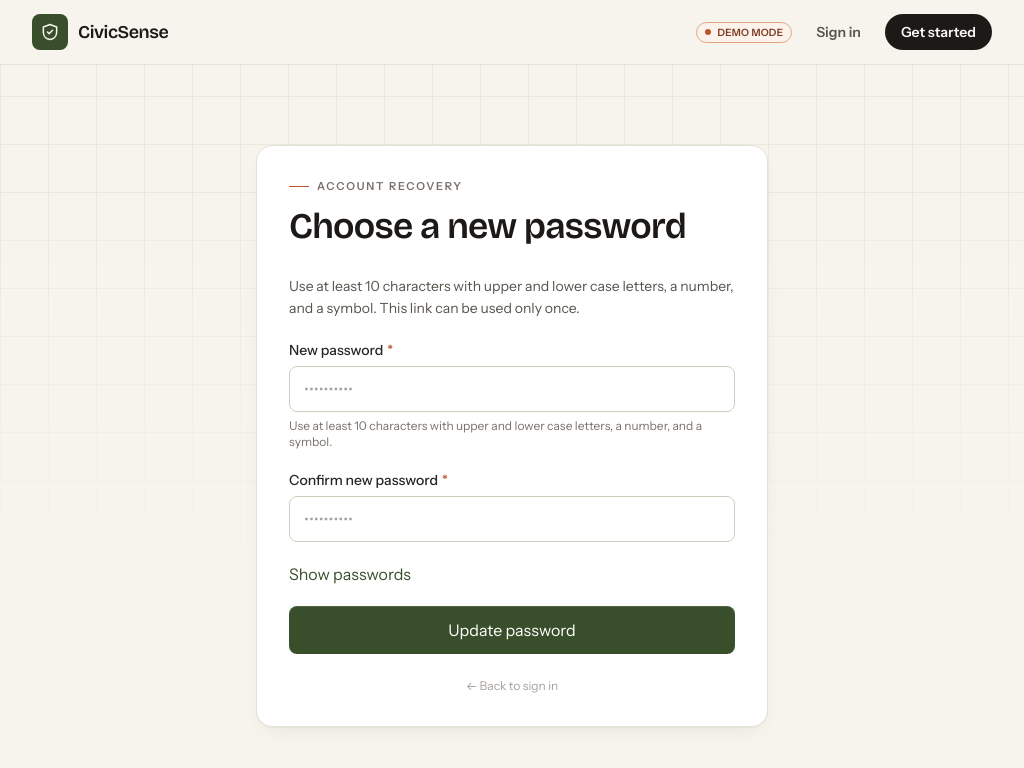
Test case: Phase 10 password recovery › rejects mismatched passwords before calling the API
Type "Str0ng!Pass1" into the password field labelled "New password" at (512, 389), box [289, 366, 735, 412]
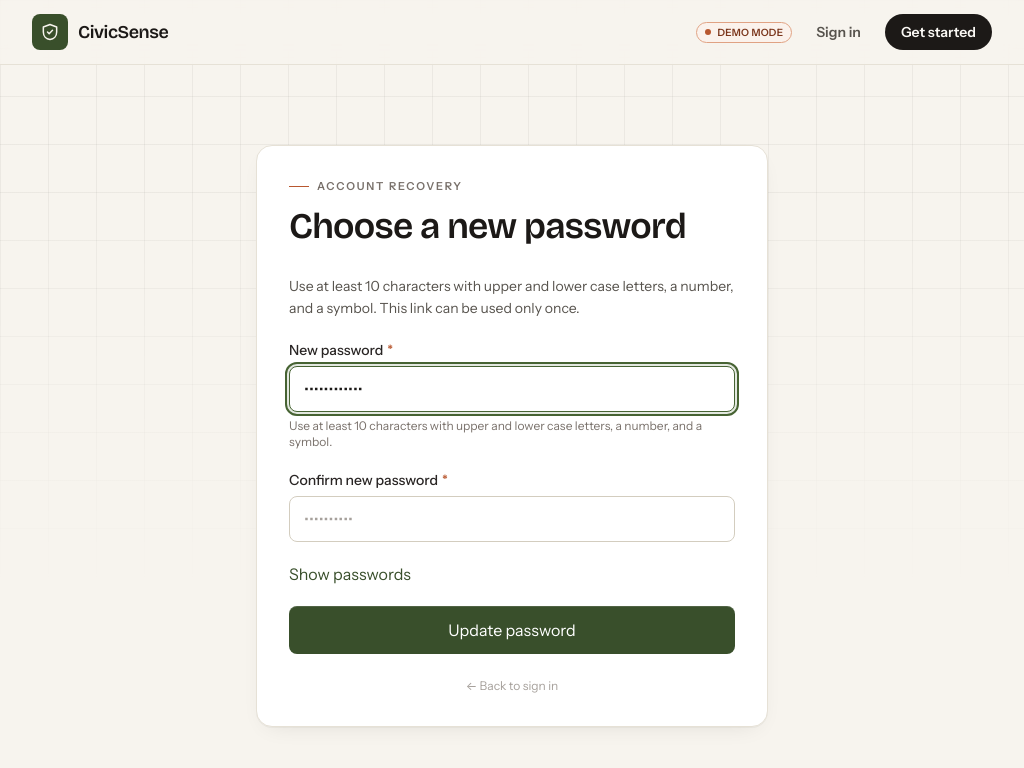
Type "Different!Pass1" into the password field labelled "Confirm new password *" at (512, 519), box [289, 496, 735, 542]
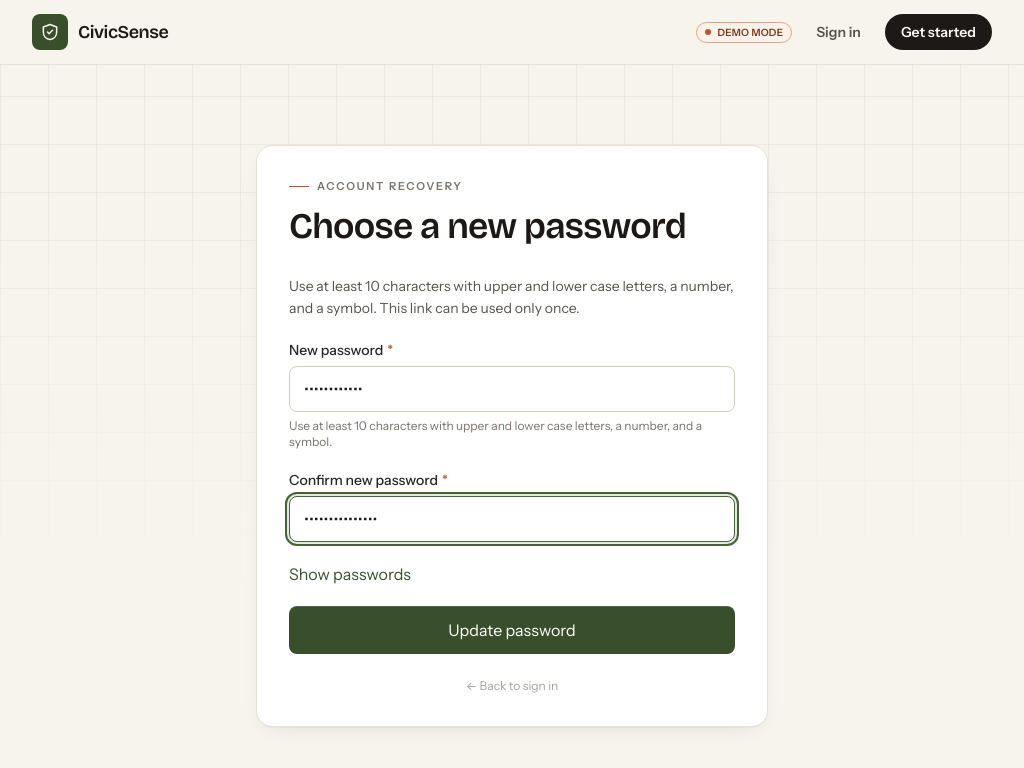
Click the button "Update password" at (512, 630), box [289, 606, 735, 654]
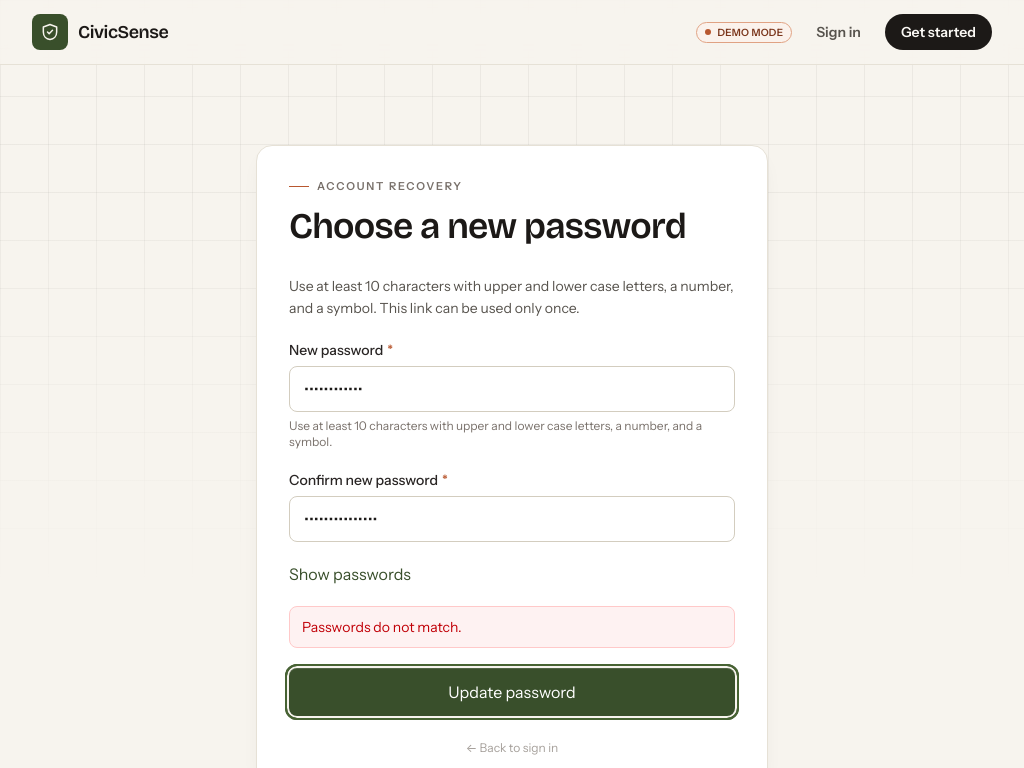
Expected: the message shows "Passwords do not match", [302, 618, 462, 636]
